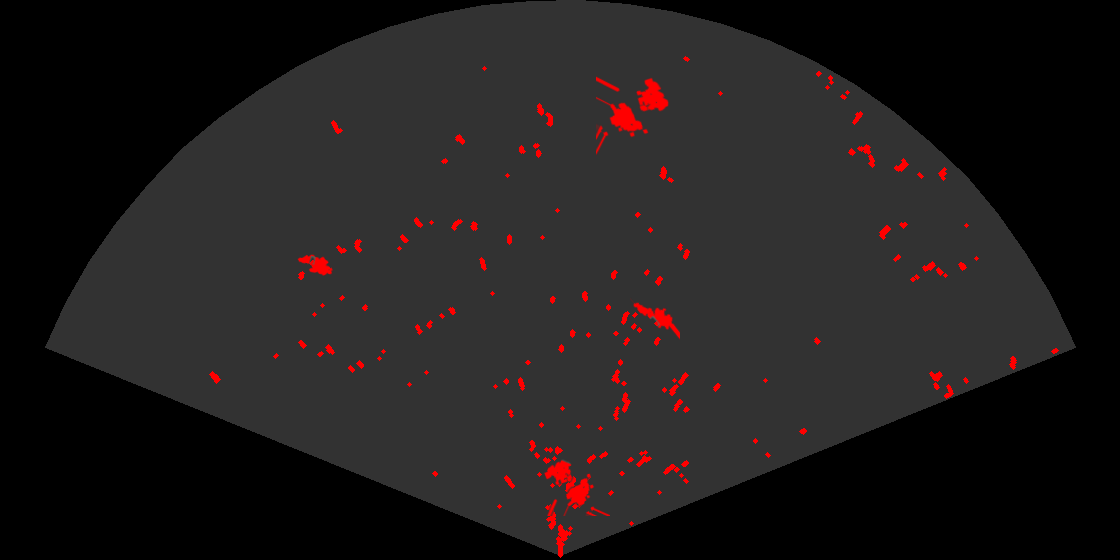AUV: (296, 253, 335, 277)
cage: (596, 75, 670, 156), (542, 459, 610, 516)
frogman: (630, 297, 680, 340)
